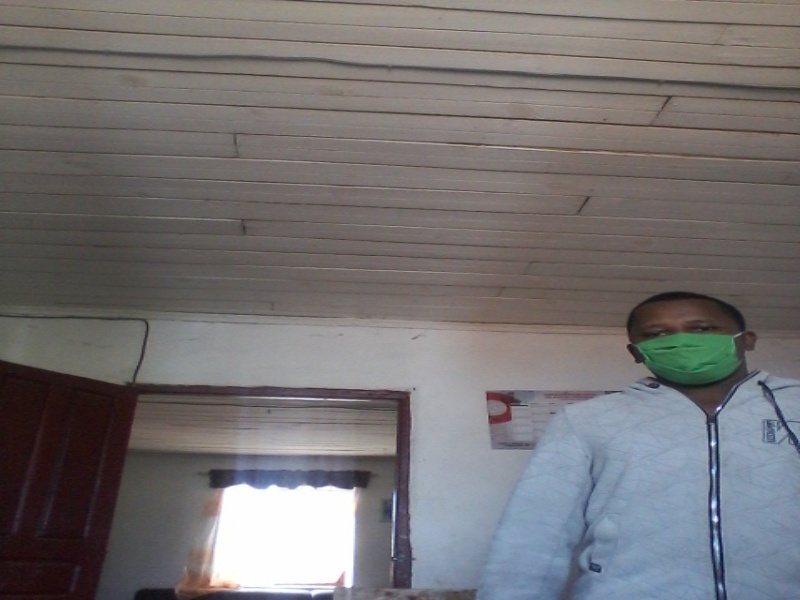ManaoArotava: (618, 271, 770, 411)
